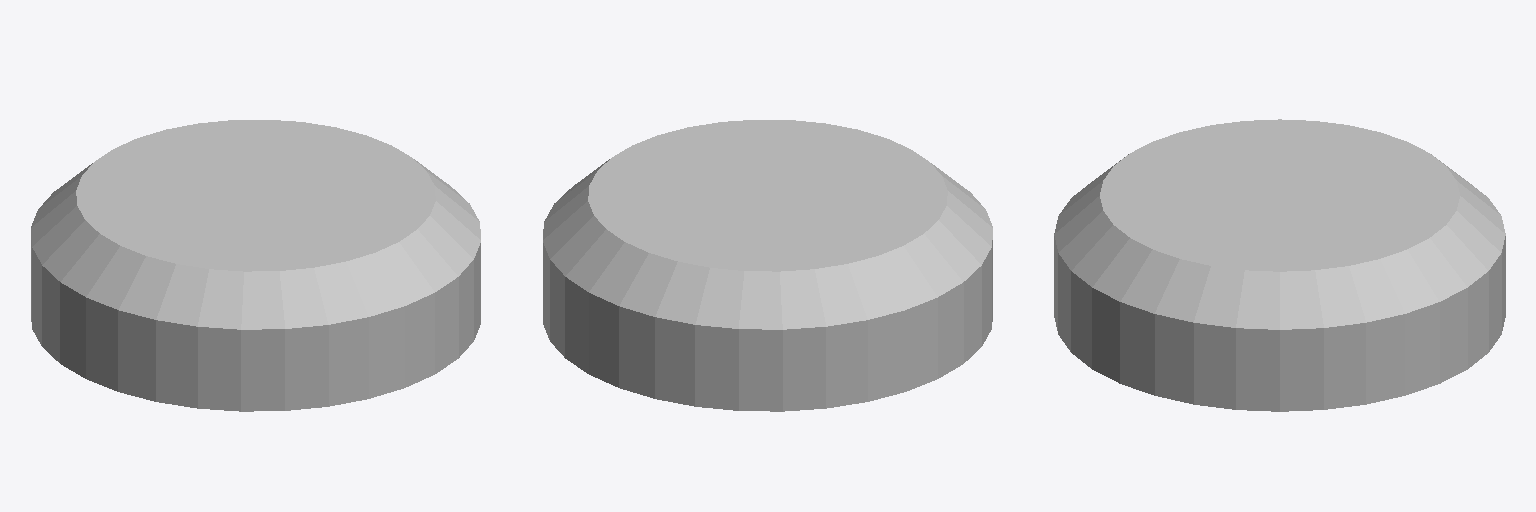
File: shell.obj
3 renders of one model, left to right at view 1: azimuth 30°, elevation 25°; view 2: azimuth 150°, elevation 25°; view 3: azimuth 270°, elevation 25°, orthographic.
Visible parts, largest first — view 1: Cylinder.005; view 2: Cylinder.005; view 3: Cylinder.005.
Part boxes in pixels (x1,y1,x2,y2): Cylinder.005: (31,120,480,411); Cylinder.005: (543,120,992,411); Cylinder.005: (1054,119,1505,411).
Size of the model in its own units: 1 by 0.2951 by 1.